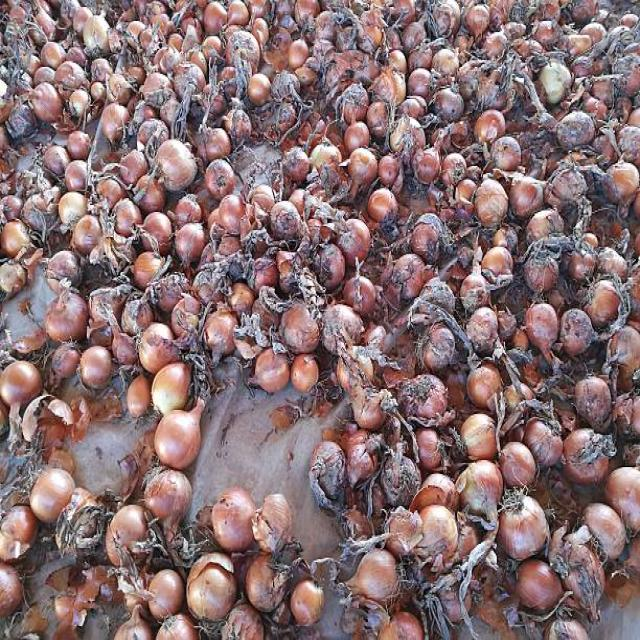rotten: (0, 0, 639, 639), (0, 80, 593, 385)
